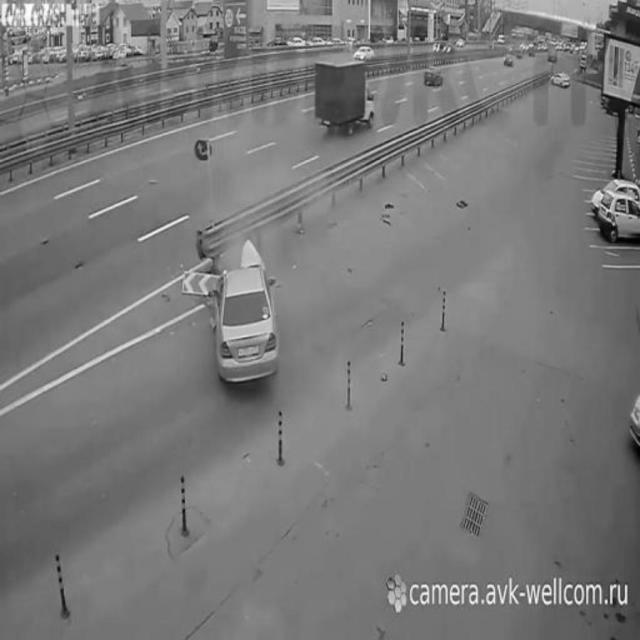vehicle: (212, 258, 279, 388), (314, 54, 375, 130), (596, 189, 640, 239), (423, 62, 445, 90), (551, 68, 571, 92), (502, 50, 517, 70)
